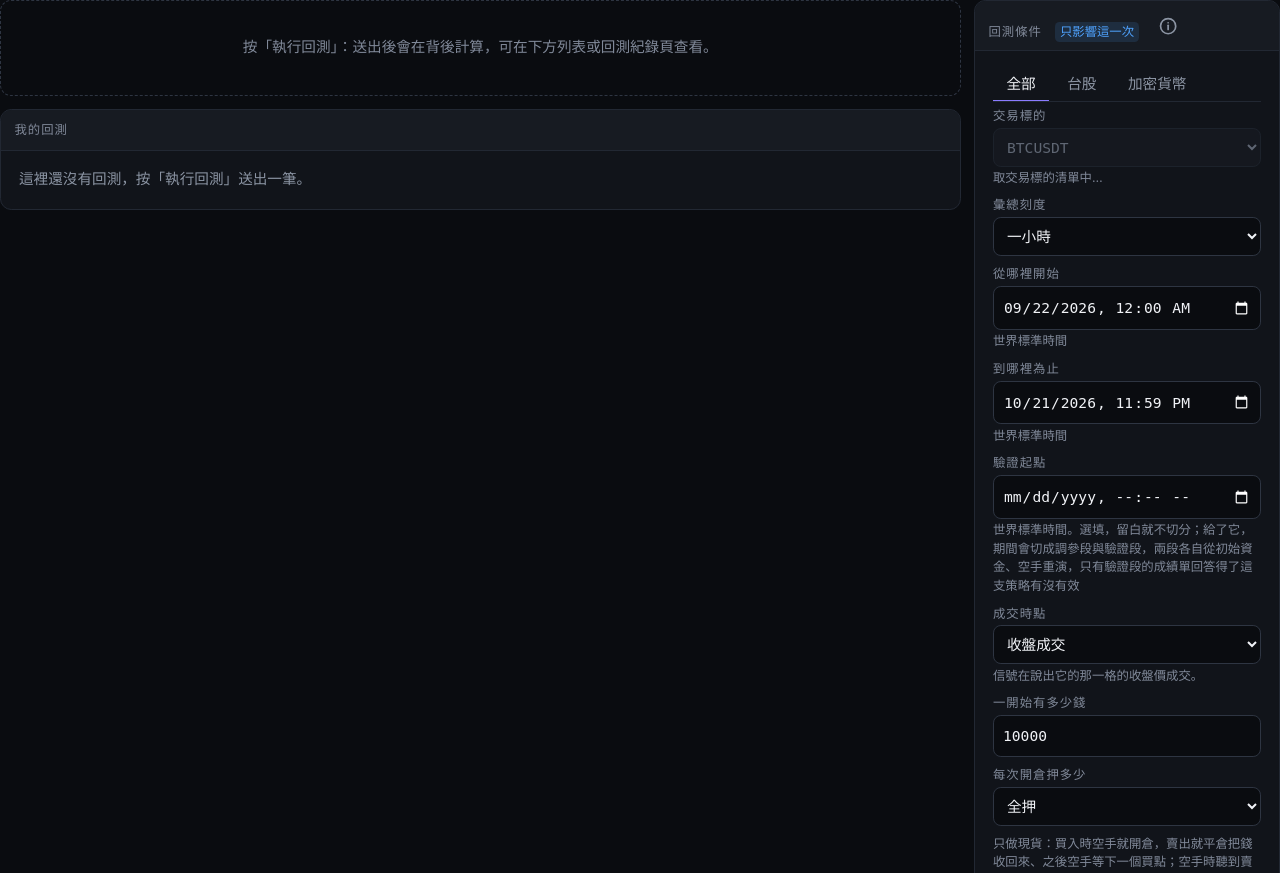
Test: StrategyScriptBacktestPane › 不合法就不送出，說明留在那一格旁邊 › 本金留白時說在本金那一格
Step 1. Clear the number field with test id "backtest-initial-capital-input" → (1127, 736), box [993,715,1261,757]
(page scrolled)
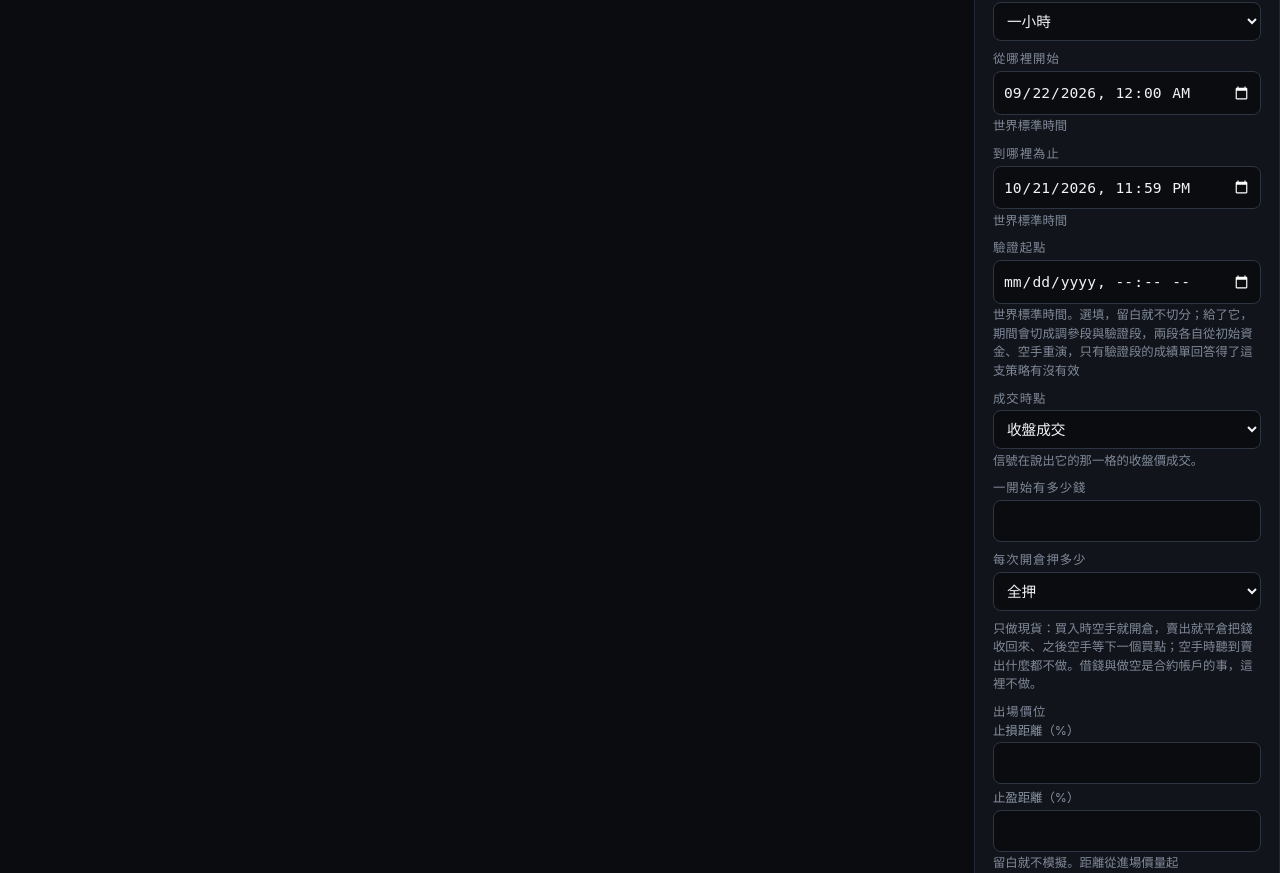
Step 2. Submit the form
(page scrolled)
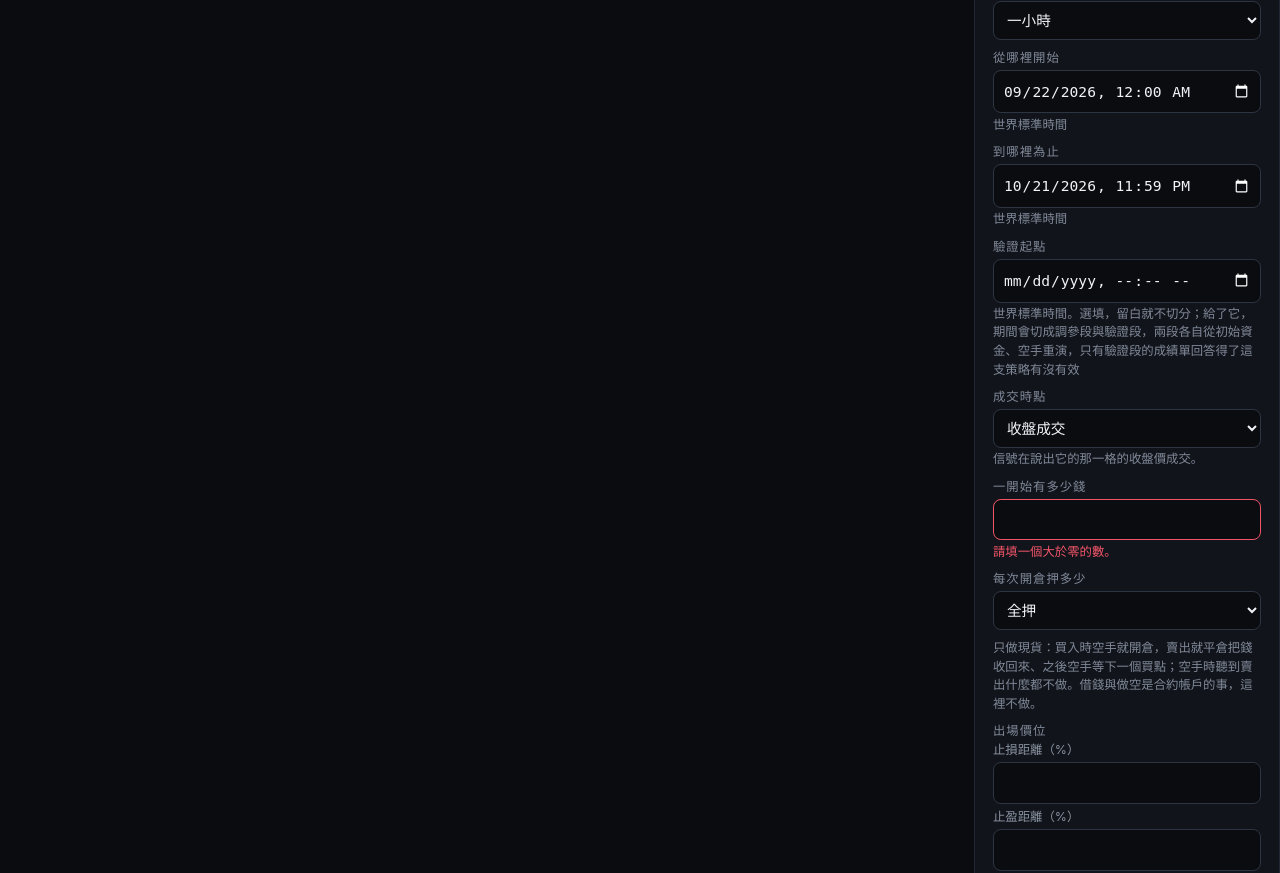
Now the form shows "請填一個大於零的數", box [993,544,1117,559]
